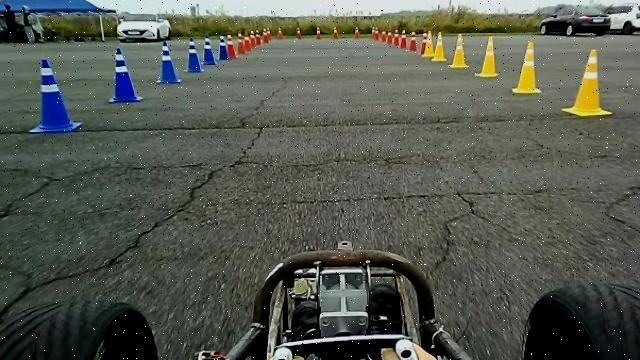blue cone: (28, 58, 83, 133), (108, 46, 142, 102), (155, 41, 181, 83), (183, 38, 204, 72), (202, 36, 216, 65)
yellow cone: (562, 48, 612, 116), (510, 40, 542, 94), (473, 35, 499, 77), (447, 33, 469, 68), (431, 31, 446, 61)
